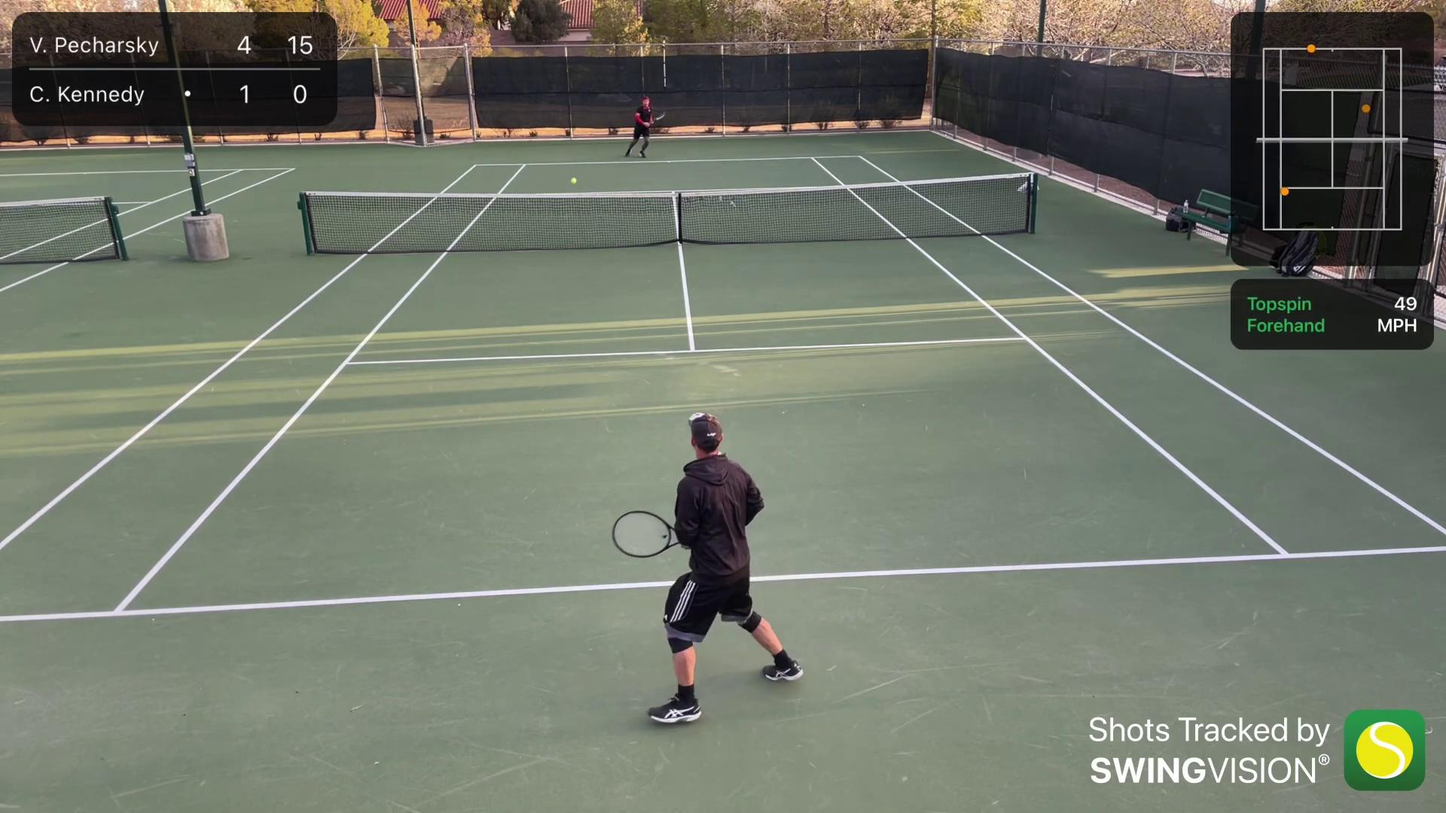ball: (569, 178, 577, 185)
